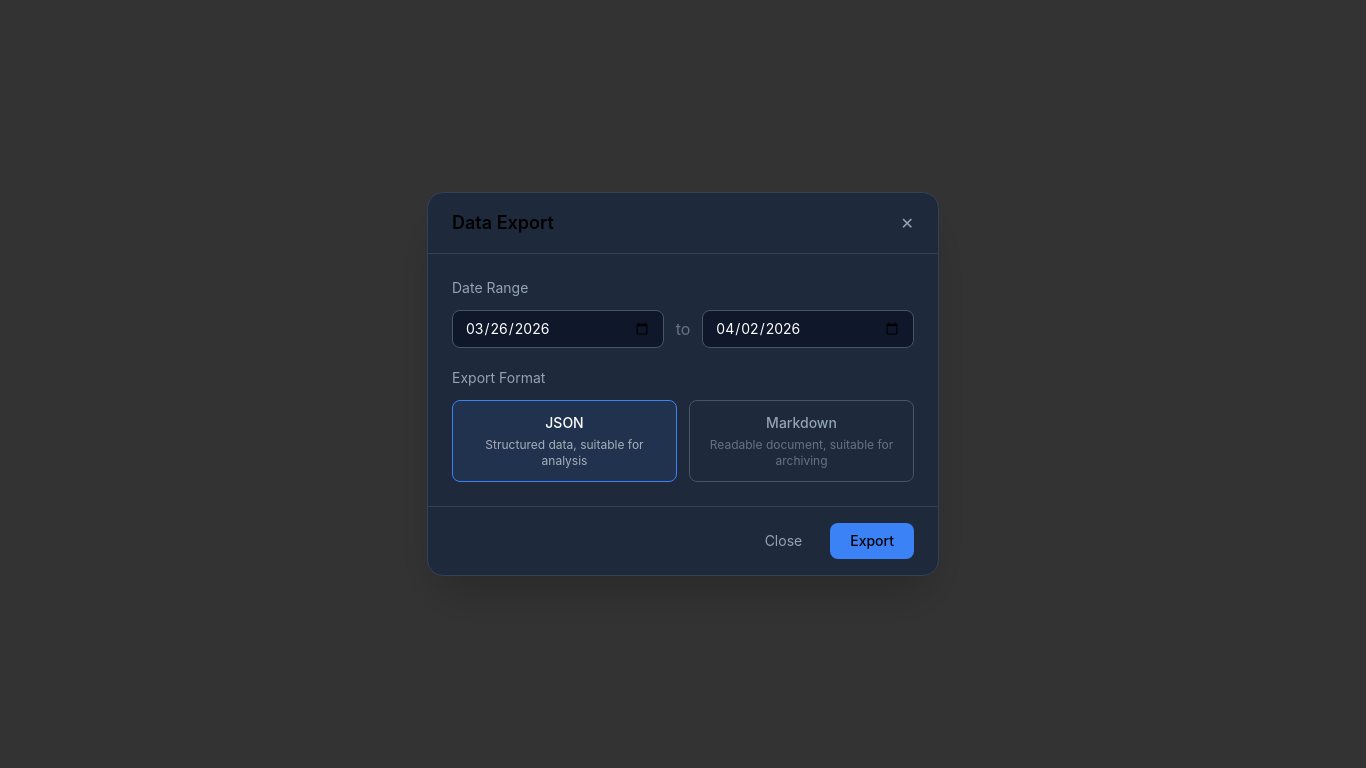
ExportModal › disables export button when start date is after end date
# Set start date after end date
Type "2025-12-31" into the 1st date field at x=558, y=329, box [452,310,664,348]
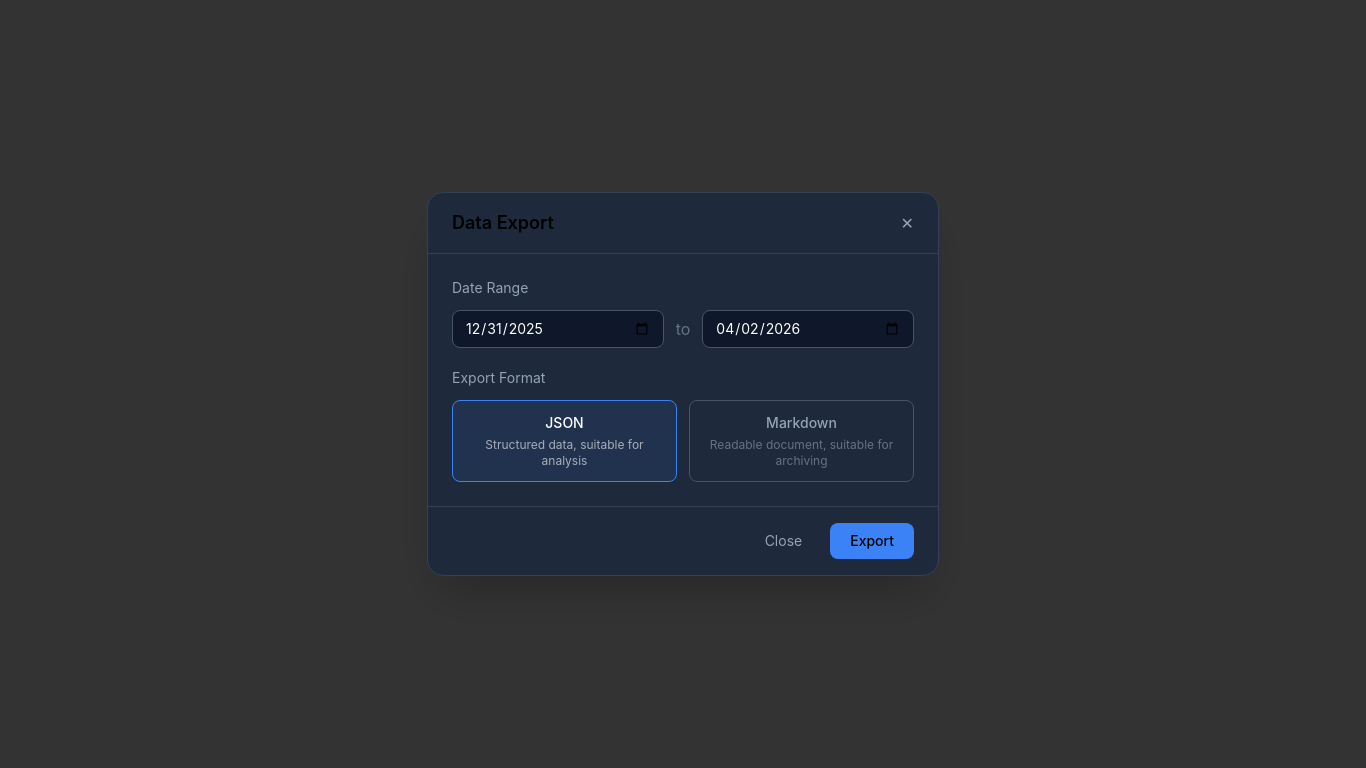
Type "2025-01-01" into the 2nd date field at x=808, y=329, box [702,310,914,348]
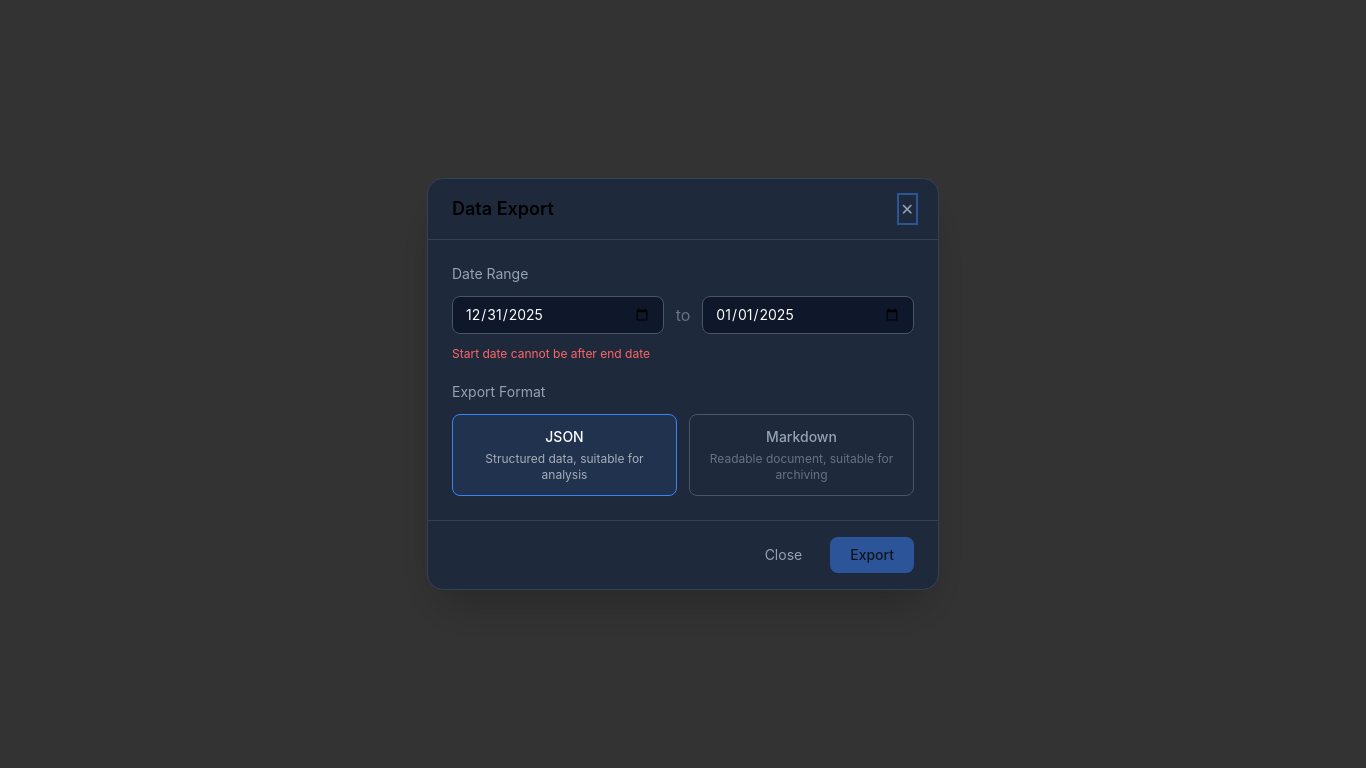
Check: the button "Export" is disabled, box [830,537,914,573]
